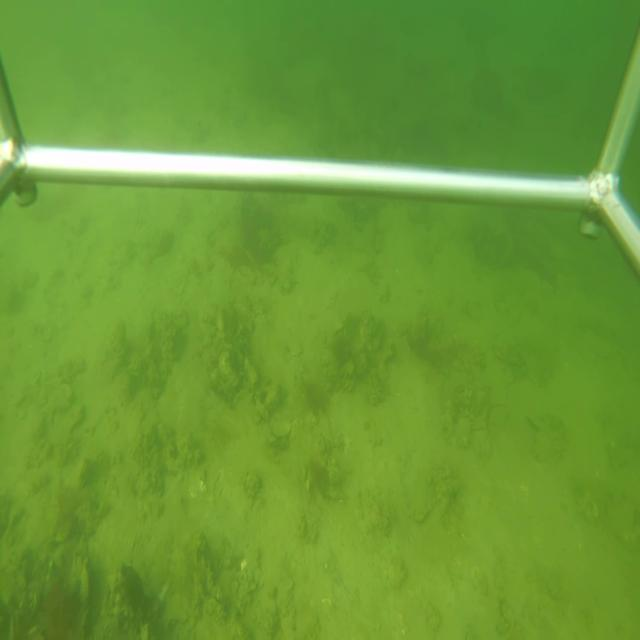Oyster-Indeterminate: (268, 419, 294, 441)
